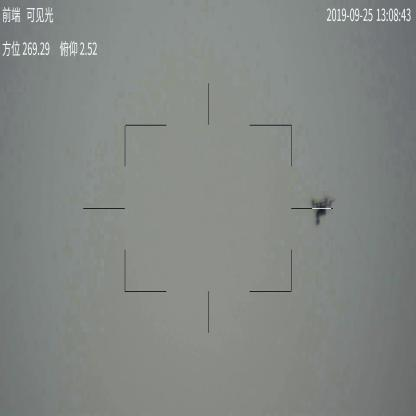uav: (310, 197, 334, 223)
